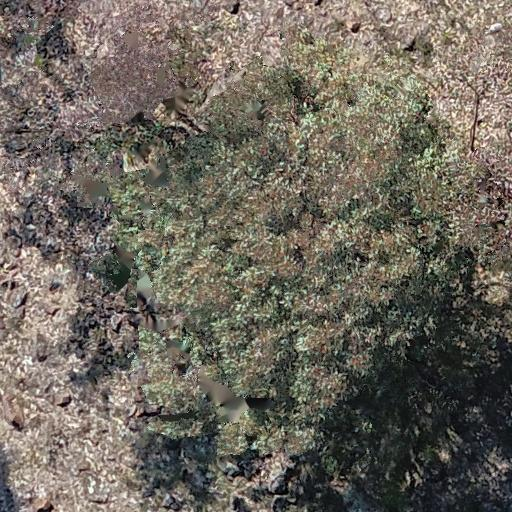stone: (36, 494, 52, 508), (11, 413, 24, 426), (15, 289, 25, 304), (58, 392, 72, 402), (347, 22, 360, 32), (406, 36, 416, 47)
